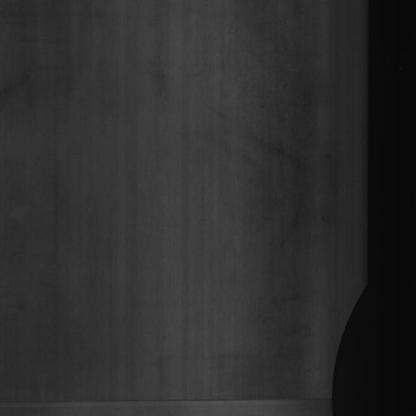crescent_gap: (323, 248, 373, 416)
welding_line: (0, 389, 341, 412)
